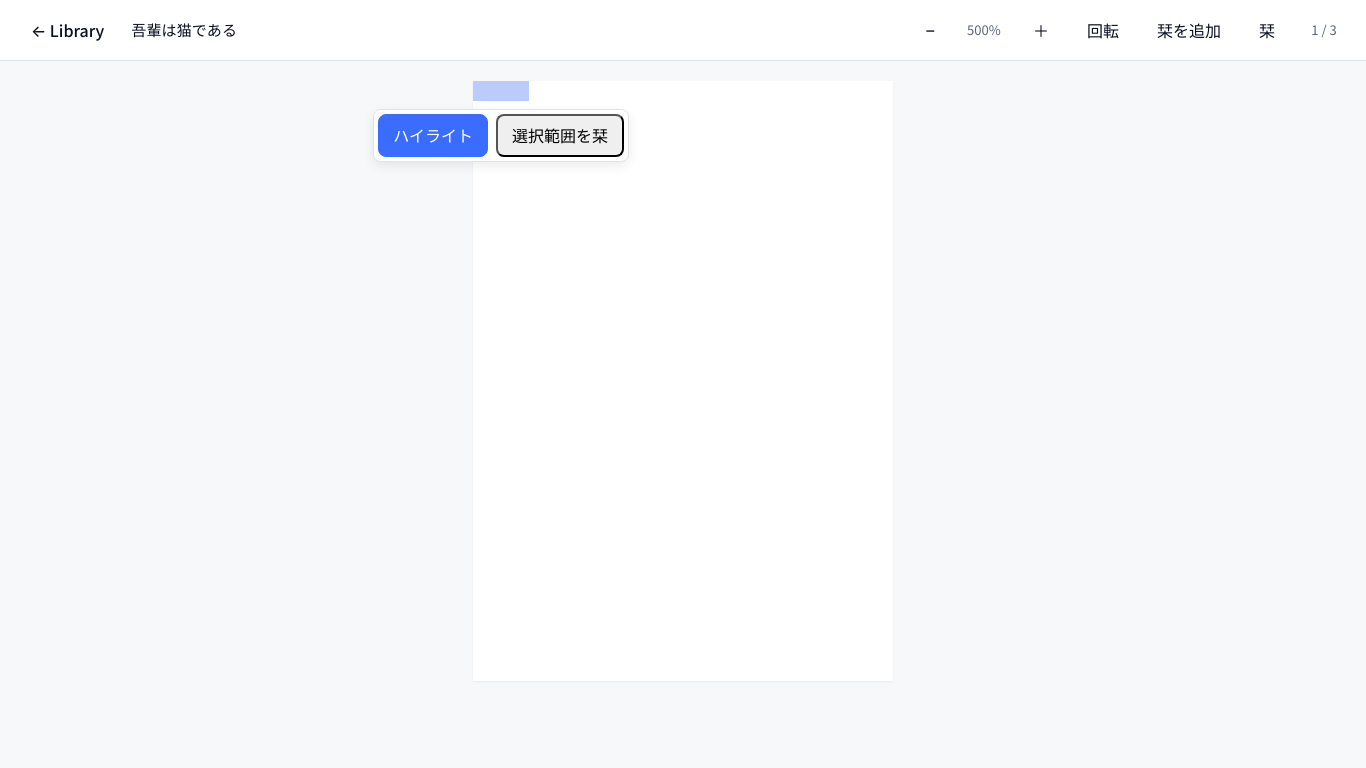
Scenario: the bookmark action › shows the mark in the panel it just opened
The width and height of the screenshot is (1366, 768).
Expected: the element with test id "rm-selection-toolbar" is shown, left=373, top=109, right=629, bottom=162
Step 1. Click the button with test id "rm-selection-bookmark" → click(560, 136), box left=496, top=114, right=624, bottom=157
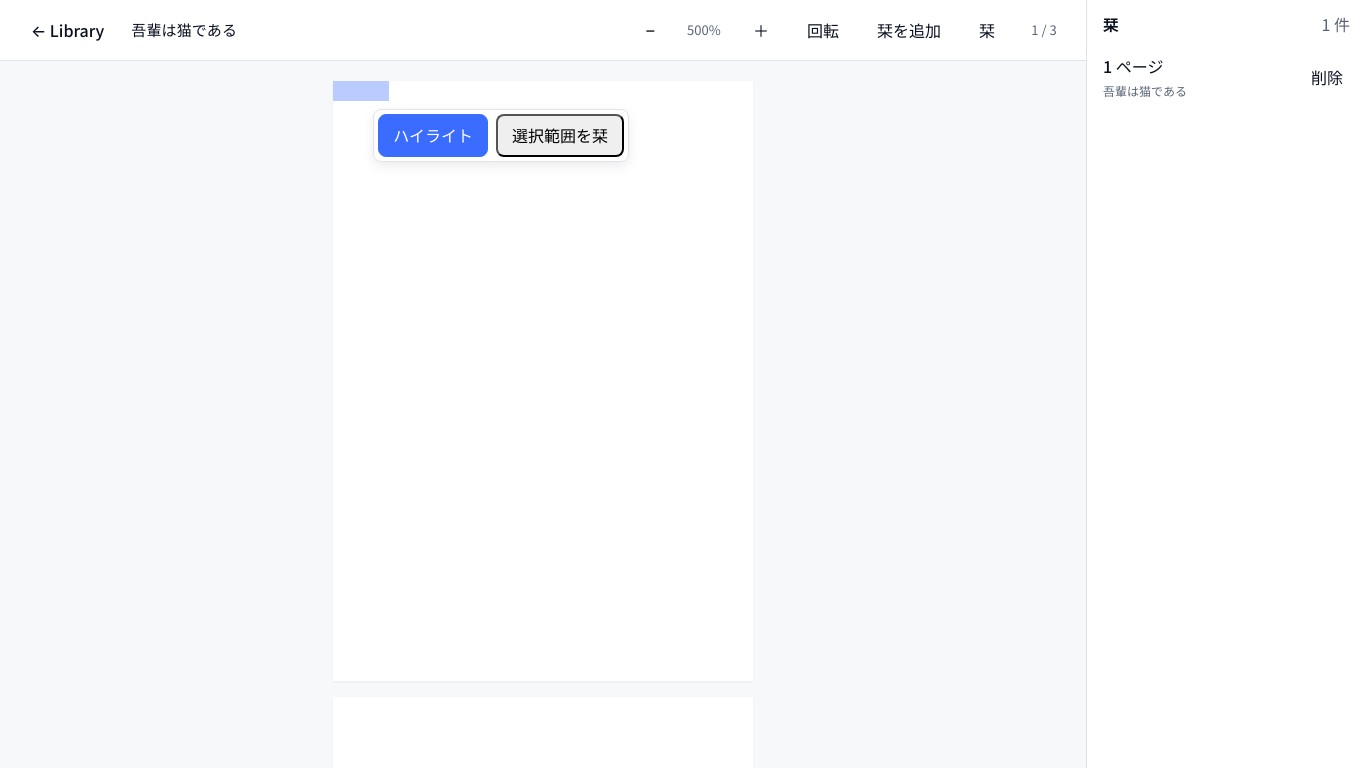
Now the number of buttons with test id "rm-bookmark-jump" is 1, box left=1095, top=46, right=1292, bottom=108
